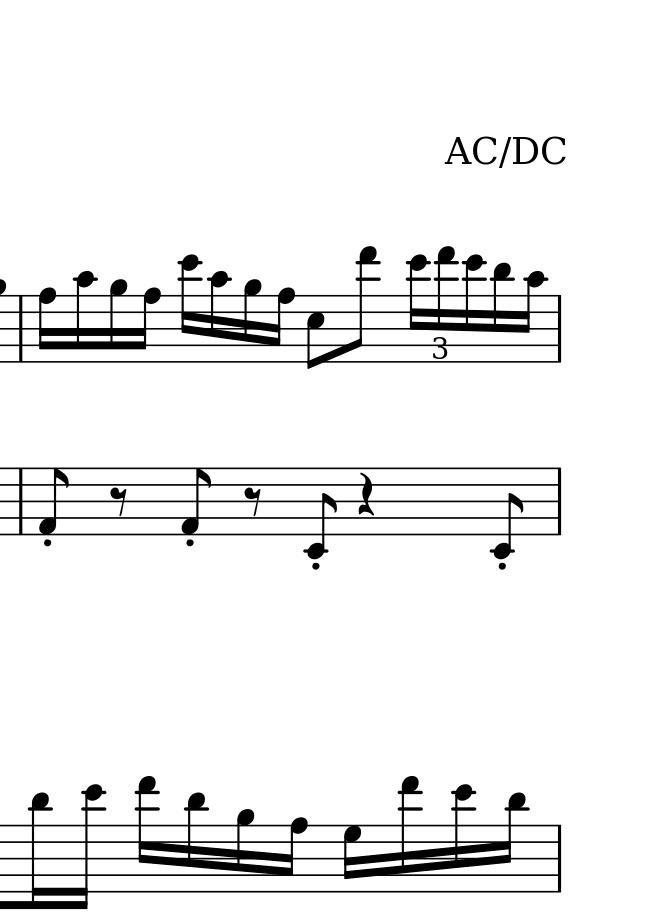16_10: (521, 269, 550, 364), (73, 270, 98, 364), (207, 270, 231, 364)
16_11: (498, 791, 527, 896), (28, 791, 51, 912), (183, 790, 207, 895), (490, 263, 514, 365)
16_12: (71, 783, 105, 912), (176, 253, 201, 365), (451, 783, 476, 894), (406, 254, 430, 364), (462, 255, 486, 364)
16_13: (134, 775, 159, 895), (397, 775, 421, 894), (433, 246, 457, 364)
16_7: (340, 821, 362, 895)
16_8: (134, 286, 162, 365), (268, 286, 296, 364), (280, 816, 308, 893), (35, 286, 58, 365)
16_9: (107, 277, 128, 365), (241, 277, 261, 365), (233, 807, 253, 894)
3: (431, 336, 448, 361)
8_-2: (301, 466, 338, 560), (489, 466, 523, 560)
8_1: (178, 466, 213, 538), (36, 466, 70, 536)
8_13: (345, 245, 380, 365)
8_5: (304, 294, 326, 371)
Rests4: (356, 471, 375, 517)
Rests8: (107, 485, 131, 518), (242, 485, 265, 518)
Single_barline: (551, 467, 567, 534), (552, 294, 567, 363), (552, 825, 567, 892), (14, 294, 27, 363), (14, 472, 28, 535)
